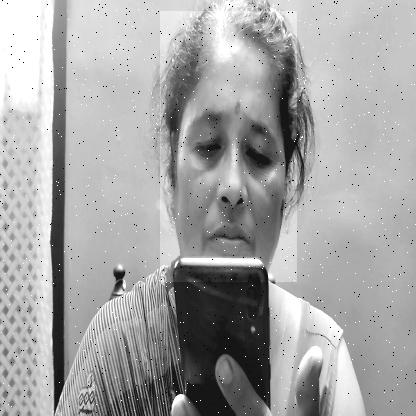Distracted: (160, 11, 297, 282)
